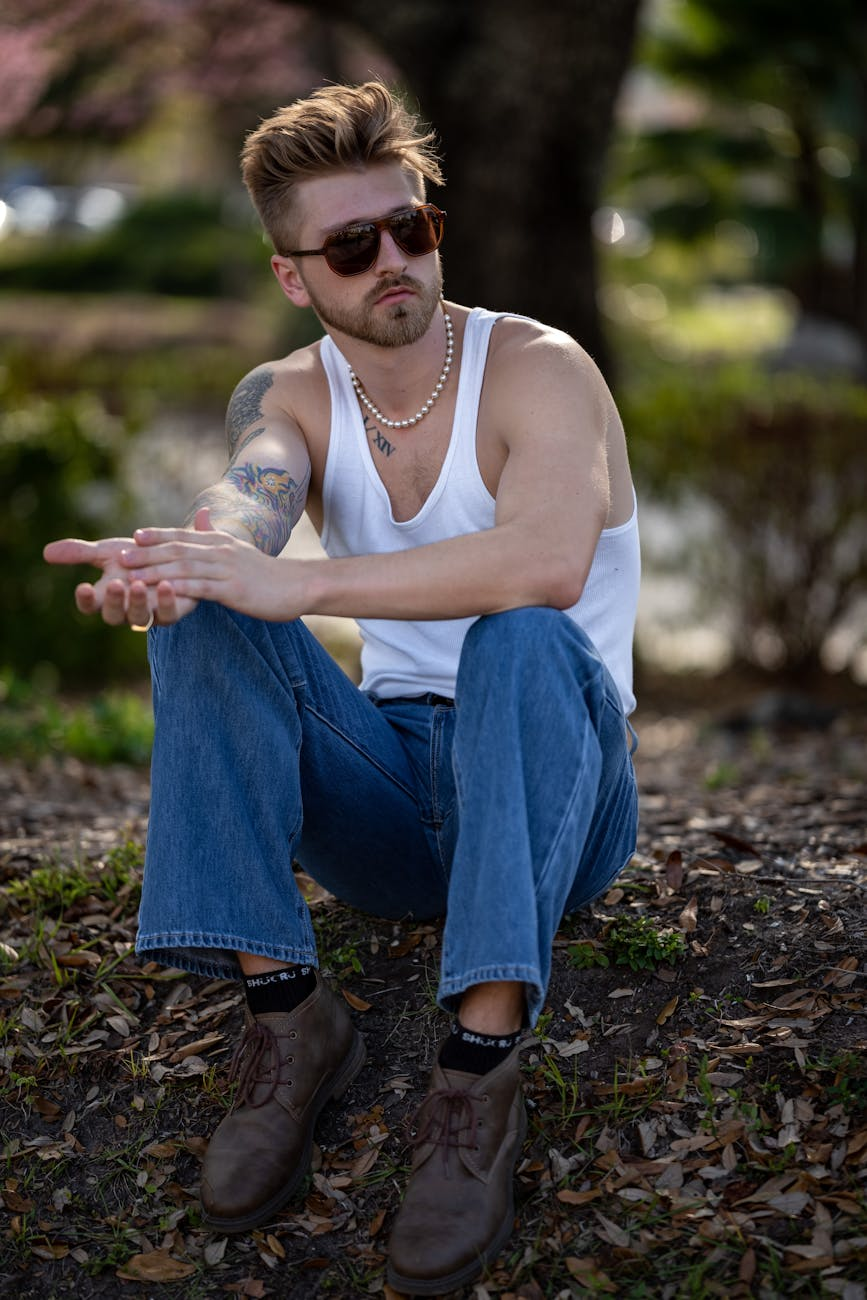sleeveless_top: (249, 325, 684, 697)
